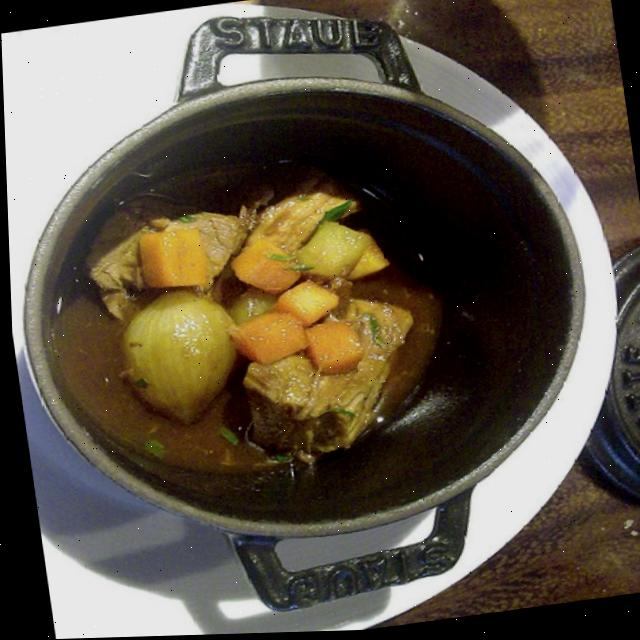汤锅炖物: (2, 39, 599, 559)
